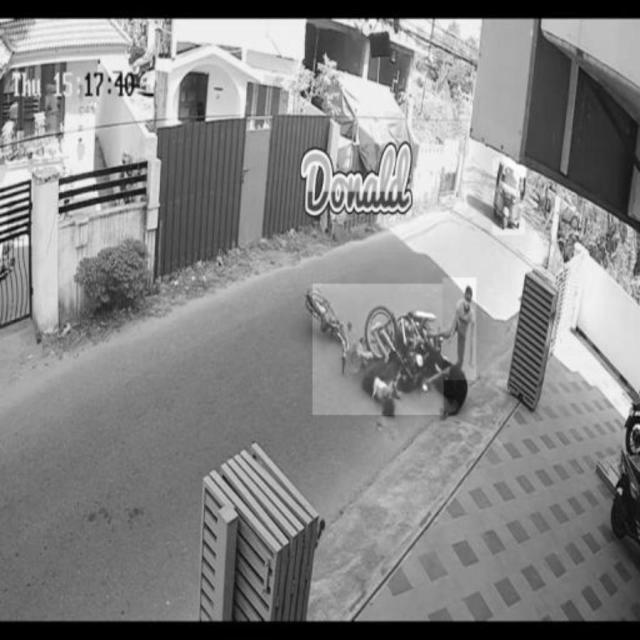accident: (313, 284, 444, 415)
person: (443, 278, 477, 380)
vehicle: (492, 158, 526, 235)
